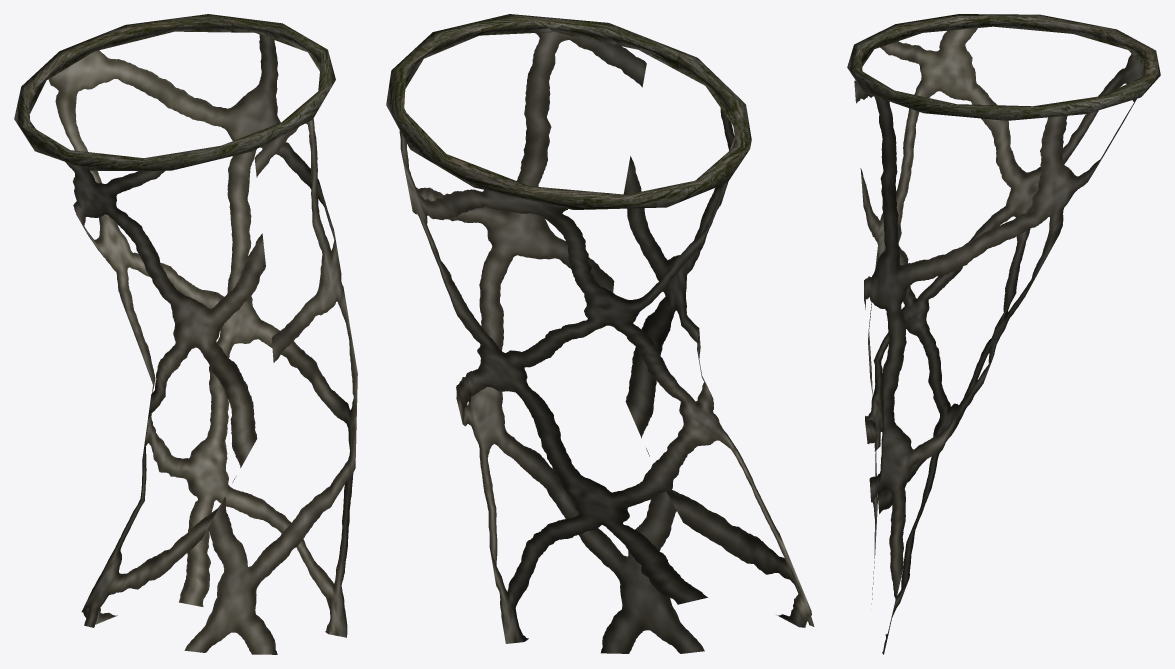
Rendered from TI_FishNet_04.fbx.
3 renders of one model, left to right at view 1: azimuth 30°, elevation 25°; view 2: azimuth 150°, elevation 25°; view 3: azimuth 270°, elevation 25°, orthographic. The views are drawn at different scales.
Parts seen in each view (by area): view 1: TI_FishNet_04, TI_WoodRing_001; view 2: TI_FishNet_04, TI_WoodRing_001; view 3: TI_FishNet_04, TI_WoodRing_001.
Part boxes in pixels (bbox=[...]): TI_FishNet_04: bbox=[48, 34, 357, 654]; TI_WoodRing_001: bbox=[14, 14, 335, 170]; TI_FishNet_04: bbox=[399, 28, 814, 653]; TI_WoodRing_001: bbox=[386, 14, 751, 209]; TI_FishNet_04: bbox=[854, 28, 1143, 654]; TI_WoodRing_001: bbox=[847, 14, 1160, 120].
Bounding box in the file's own units: 1.23 × 2.2 × 1.12.
